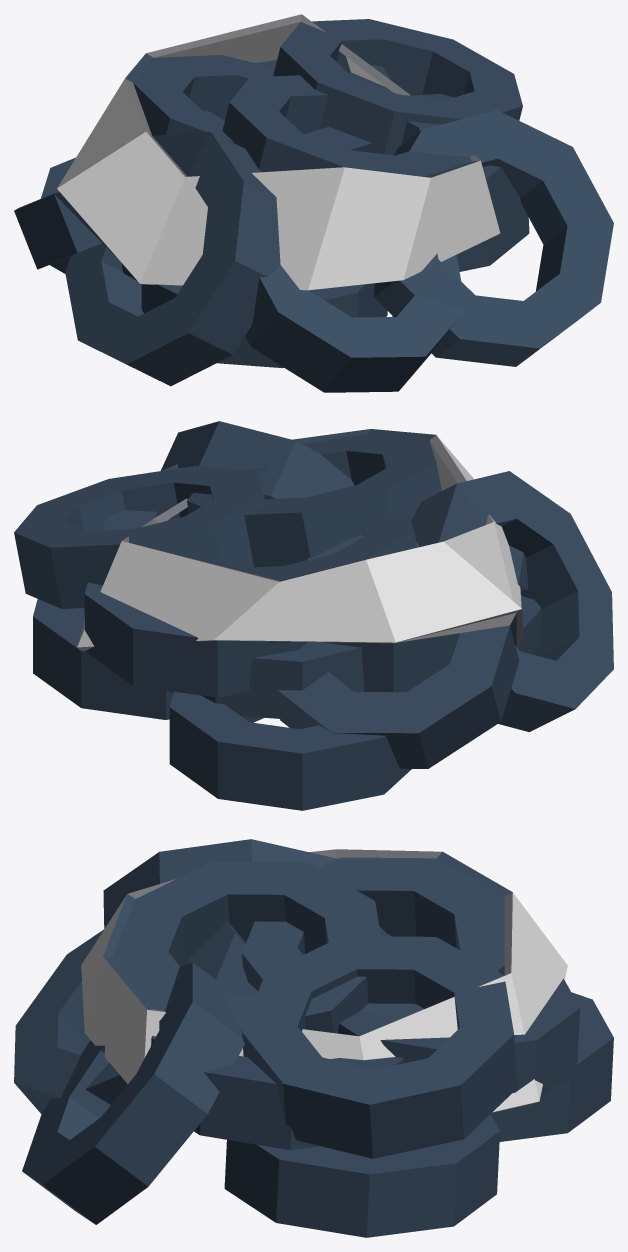
Rendered from ruedas.fbx.
The picture shows the model from 3 angles, top to bottom: view 1: azimuth 30°, elevation 25°; view 2: azimuth 150°, elevation 25°; view 3: azimuth 270°, elevation 25°; orthographic projection. The views are drawn at different scales.
Visible parts, largest first — view 1: Rueda.001; view 2: Rueda.001, Rueda; view 3: Rueda.001.
Part boxes in pixels (left/top/right/bottom): Rueda.001: left=14, top=14, right=613, bottom=392; Rueda.001: left=14, top=421, right=613, bottom=810; Rueda: left=170, top=642, right=364, bottom=720; Rueda.001: left=14, top=839, right=613, bottom=1237.
Size of the model in its own units: 439 by 201 by 433.
